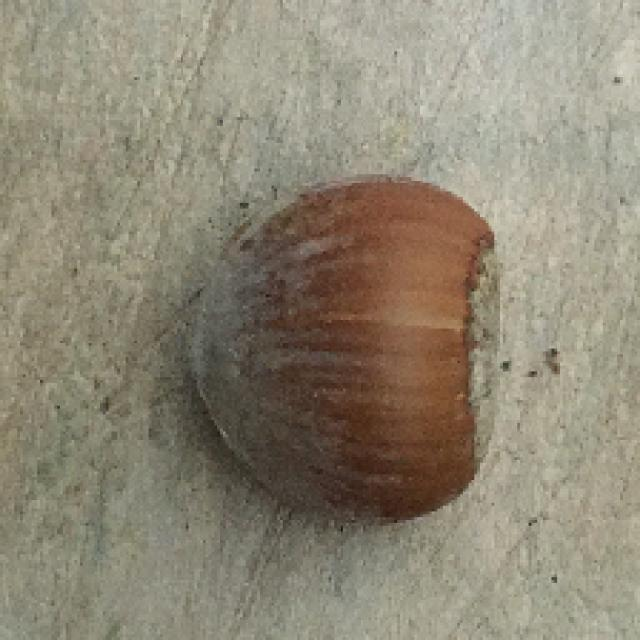QualityHazelnut: (187, 174, 501, 530)
